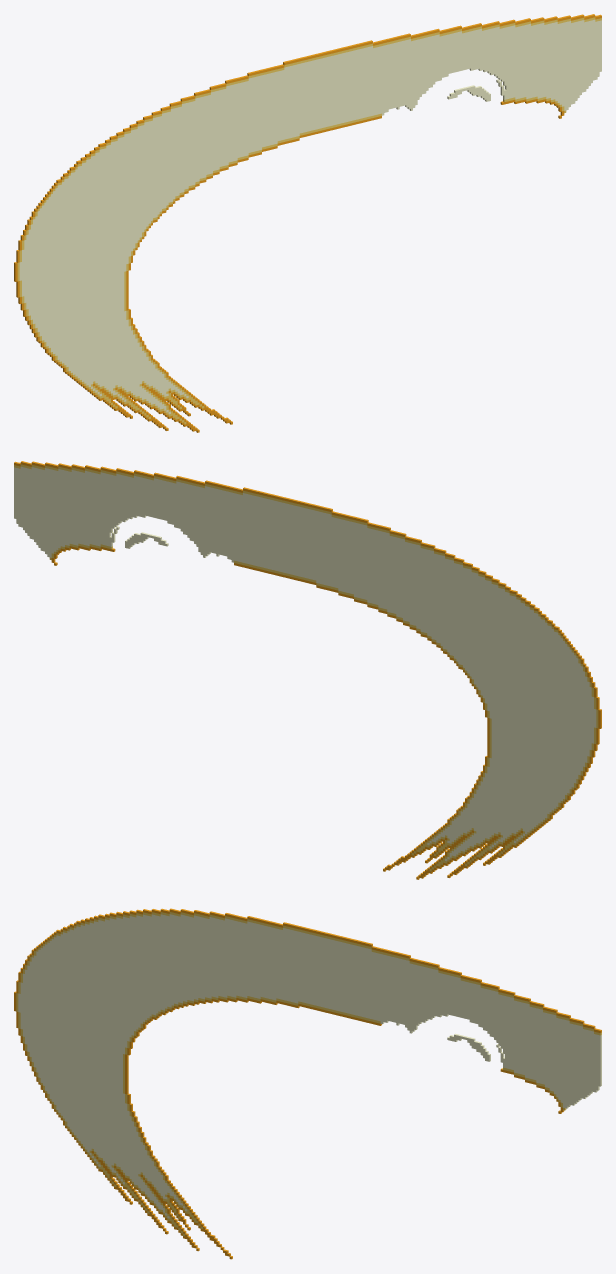
The model's file is Fight_101_2_10_fx.obj.
3 renders of one model, top to bottom at view 1: azimuth 30°, elevation 25°; view 2: azimuth 150°, elevation 25°; view 3: azimuth 330°, elevation 25°, orthographic.
Bounding box in the file's own units: 26.4 × 15 × 0.1.
Materials: 1 (1 with a texture image).
